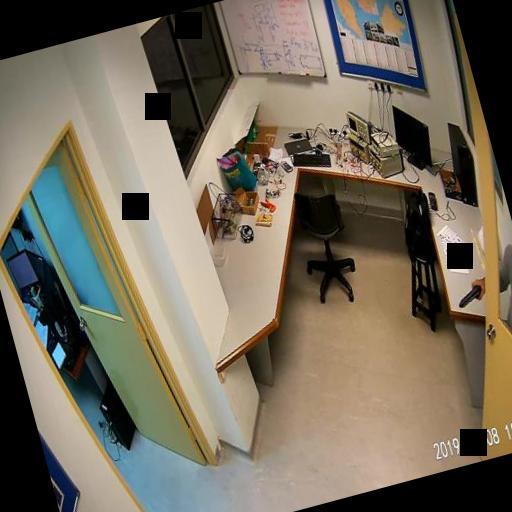Handgun: (450, 276, 484, 308)
